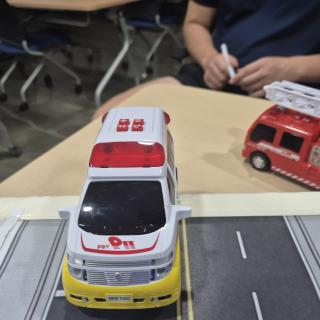Ambulance: (58, 107, 191, 308)
